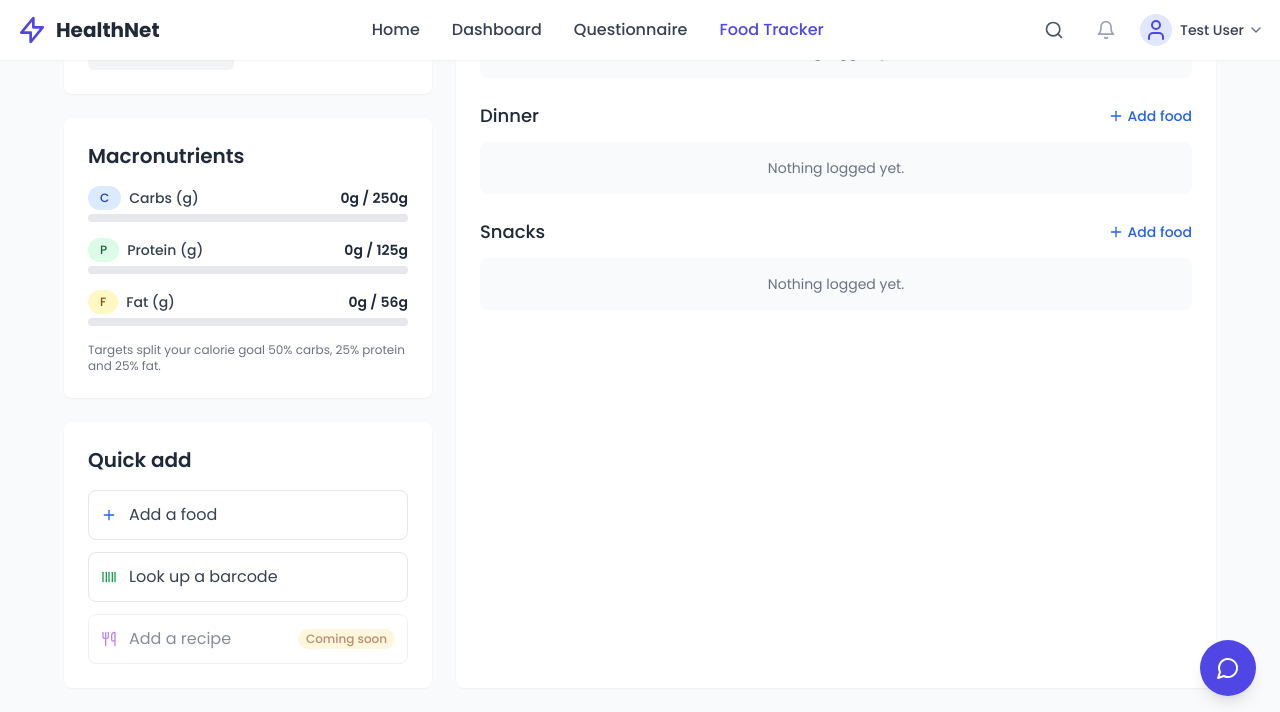
Scenario: a barcode is looked up and logged by weight
(page scrolled)
Step 1. Click the button "Look up a barcode" → (248, 577), box [88,552,408,602]
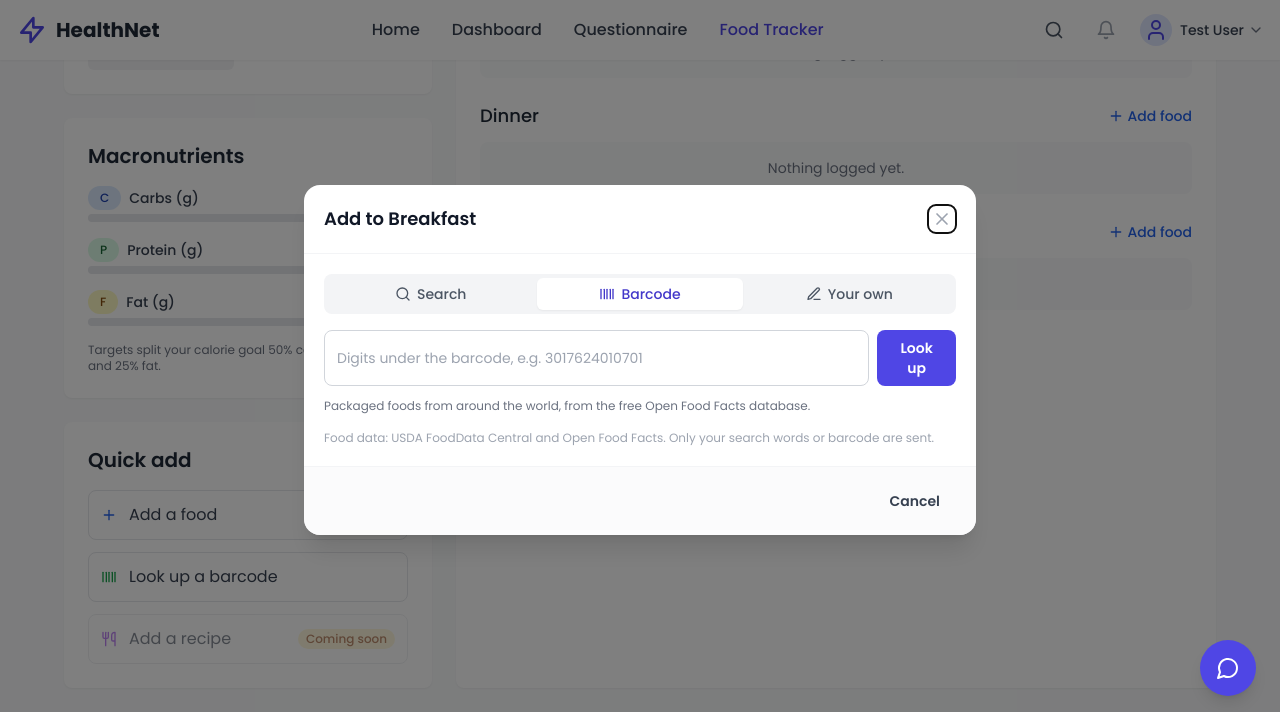
Step 2. Type "3017624010701" into the field named "Barcode number" → (597, 358), box [324,330,869,386]
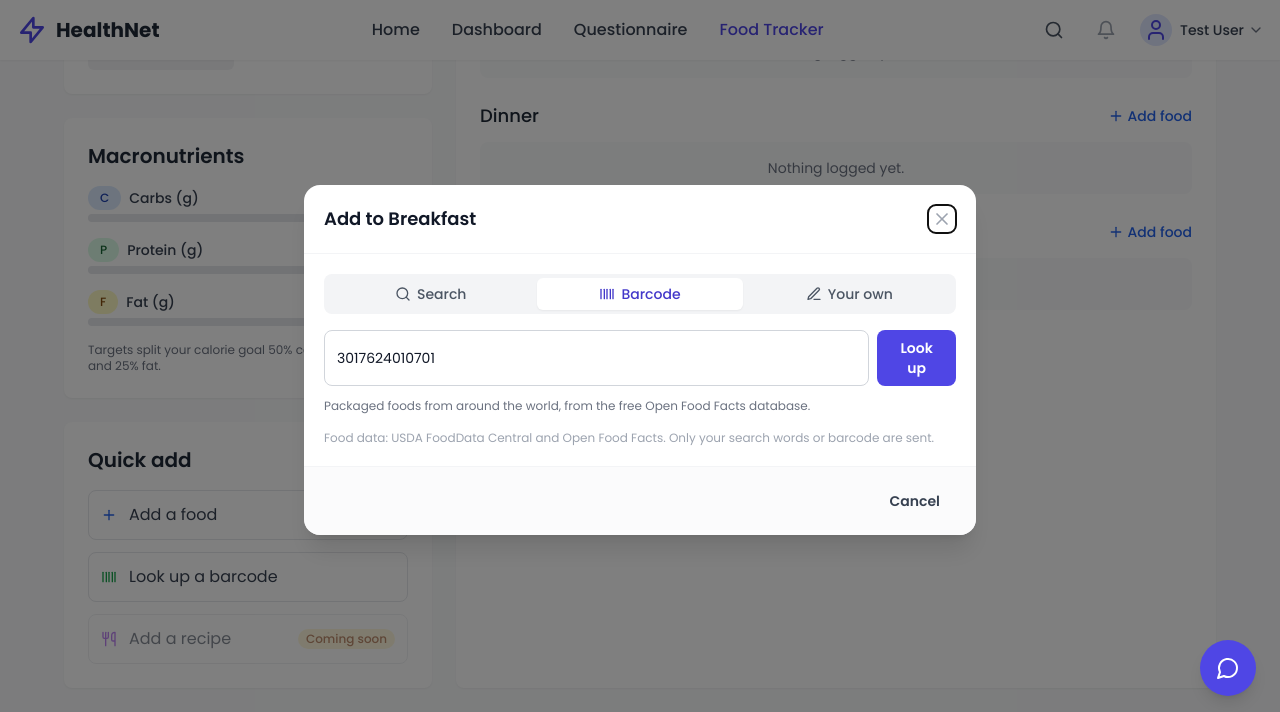
Step 3. Click the button "Look up" → (917, 358), box [877,330,956,386]
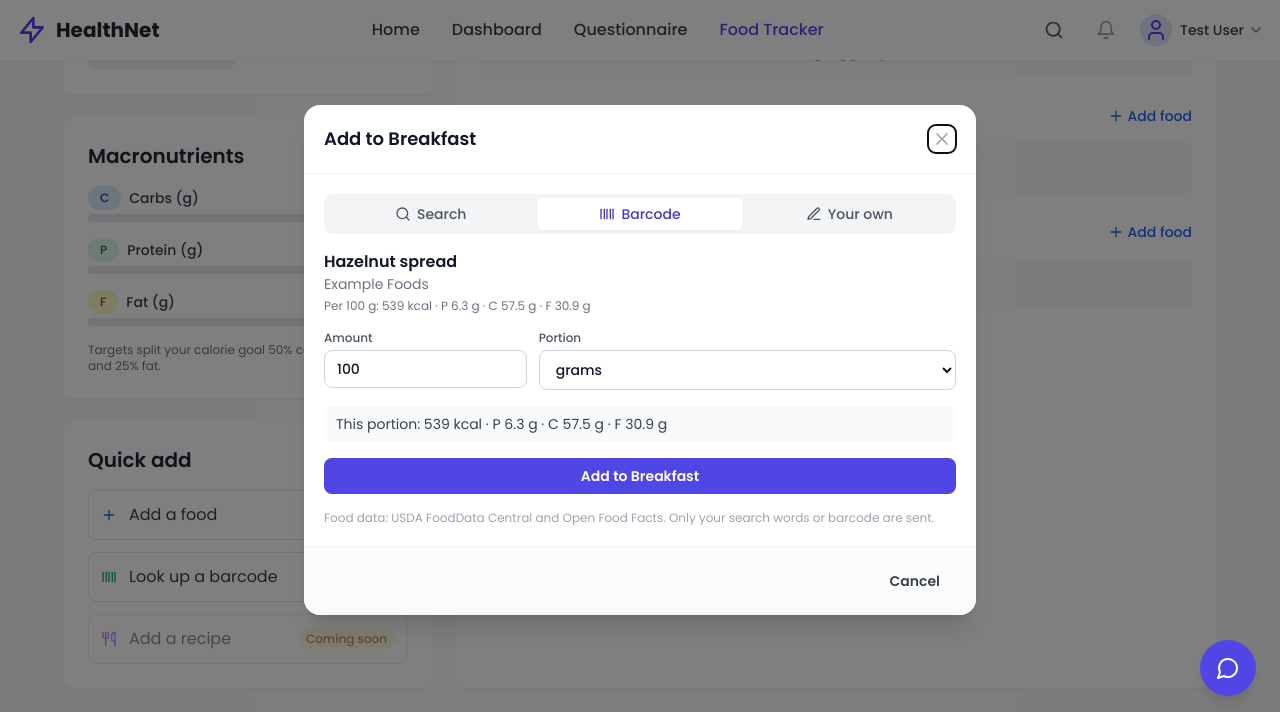
Result: the text "Hazelnut spread" is shown at [324,250,457,273]
Step 4. Replace the text in the number field labelled "Amount" with "15" → (425, 369), box [324,350,527,388]
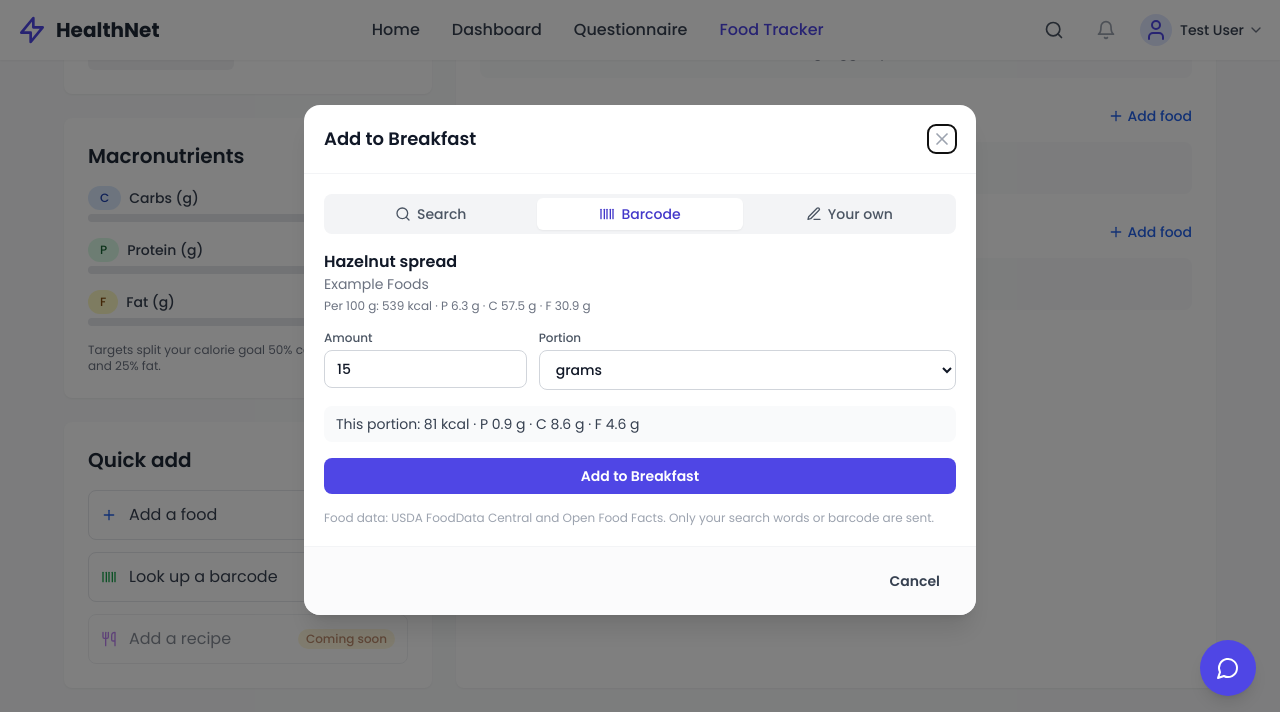
Step 5. Click the button "Add to Breakfast" → (640, 476), box [324,458,956,494]
(page scrolled)
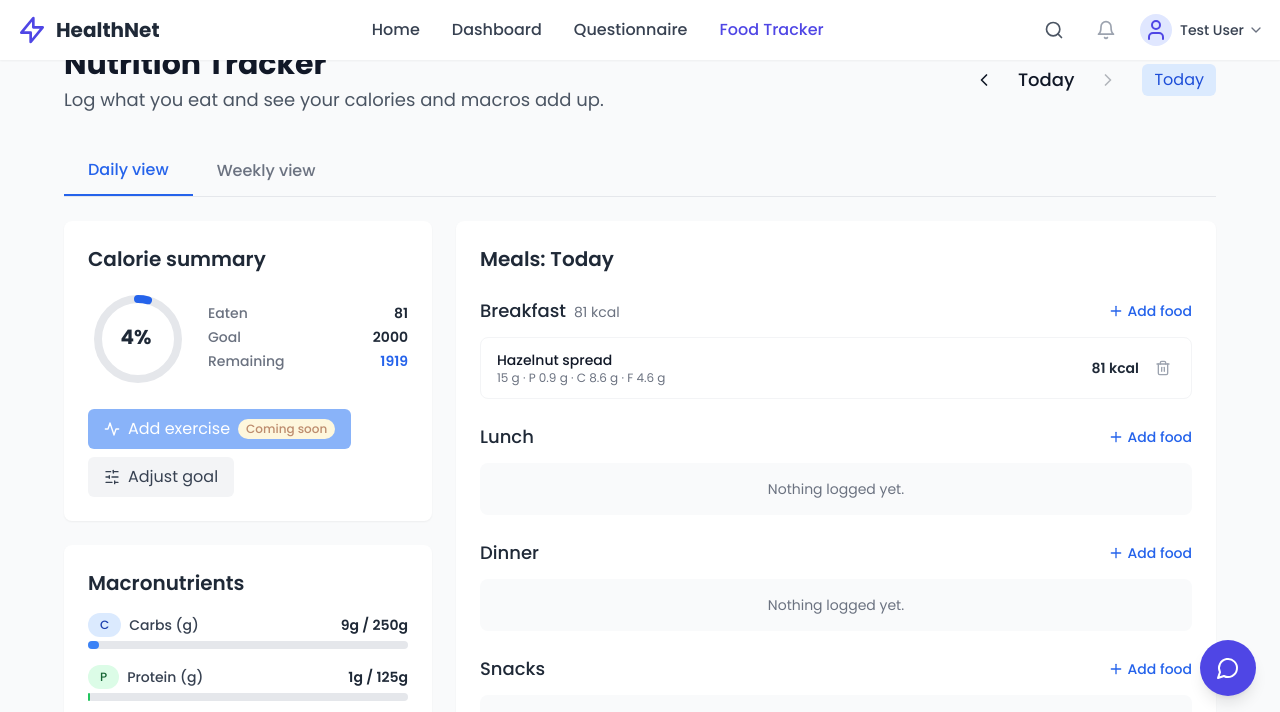
Result: the text "Hazelnut spread" is shown at [497,350,612,370]
Result: the text "81 kcal" is shown 2 times at [574,302,620,322]; [1092,358,1139,378]
